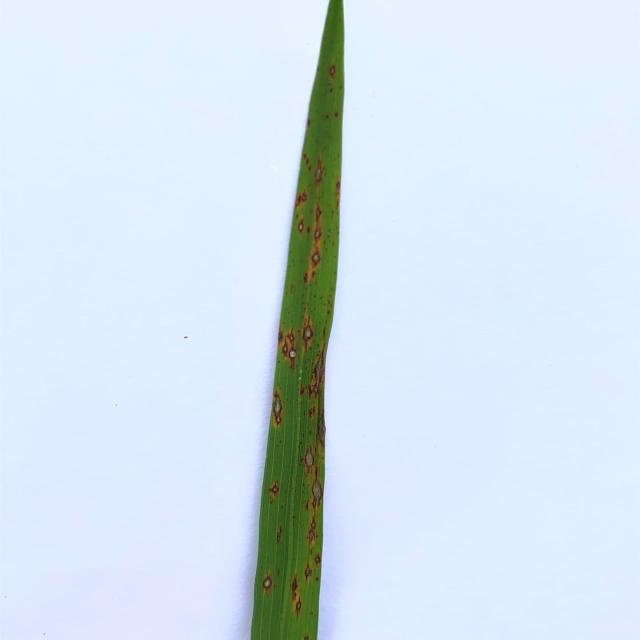leaf blast: (313, 350, 325, 399), (300, 316, 316, 350), (311, 466, 322, 508), (306, 515, 317, 552), (317, 395, 324, 448), (274, 389, 283, 428), (260, 571, 274, 596), (304, 443, 314, 476), (312, 162, 325, 185), (295, 190, 309, 209), (290, 572, 299, 598), (268, 481, 280, 498), (294, 597, 302, 620), (304, 561, 312, 584), (289, 348, 298, 368), (313, 250, 322, 269), (314, 205, 324, 222), (288, 330, 296, 346), (313, 229, 323, 241), (298, 220, 306, 234), (314, 554, 322, 567), (282, 342, 289, 356), (329, 64, 337, 76)
